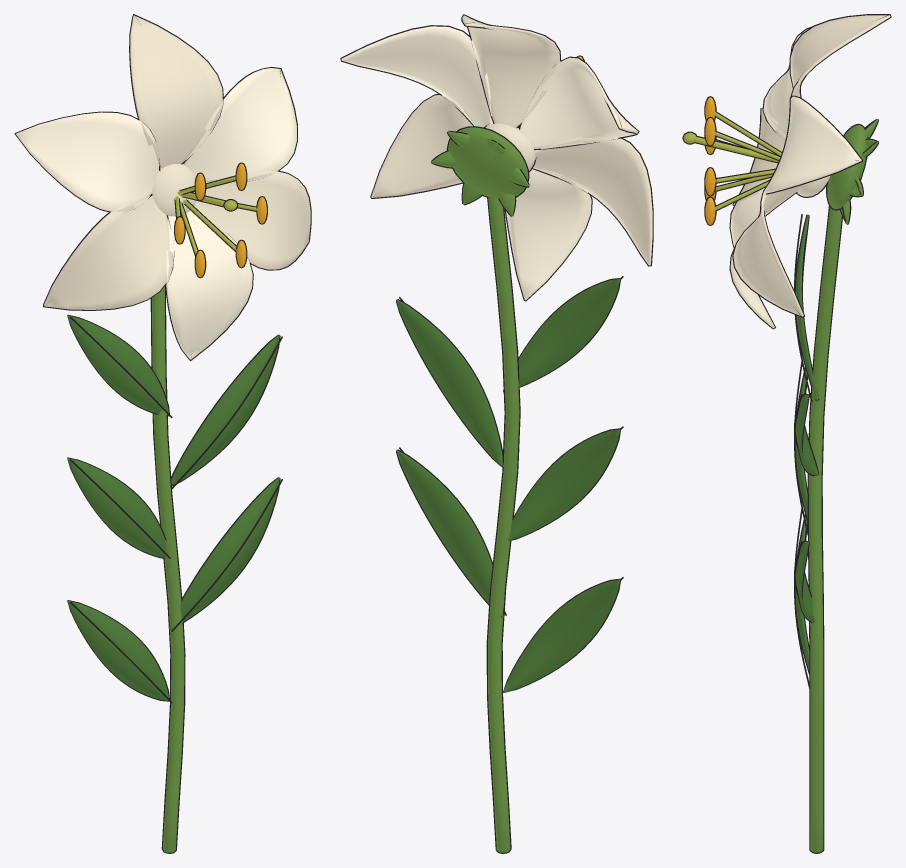
File: lily_toon.glb
3 renders of one model, left to right at view 1: azimuth 30°, elevation 25°; view 2: azimuth 150°, elevation 25°; view 3: azimuth 270°, elevation 25°, orthographic. The views are drawn at different scales.
Visible parts, largest first — view 1: lily_Geometry; view 2: lily_Geometry; view 3: lily_Geometry.
Boxes of the visible parts, x1=… form: lily_Geometry: x1=14, y1=14, x2=311, y2=853; lily_Geometry: x1=340, y1=14, x2=653, y2=853; lily_Geometry: x1=682, y1=14, x2=891, y2=853.
Size of the model in its own units: 0.1882 by 0.5472 by 0.124.
